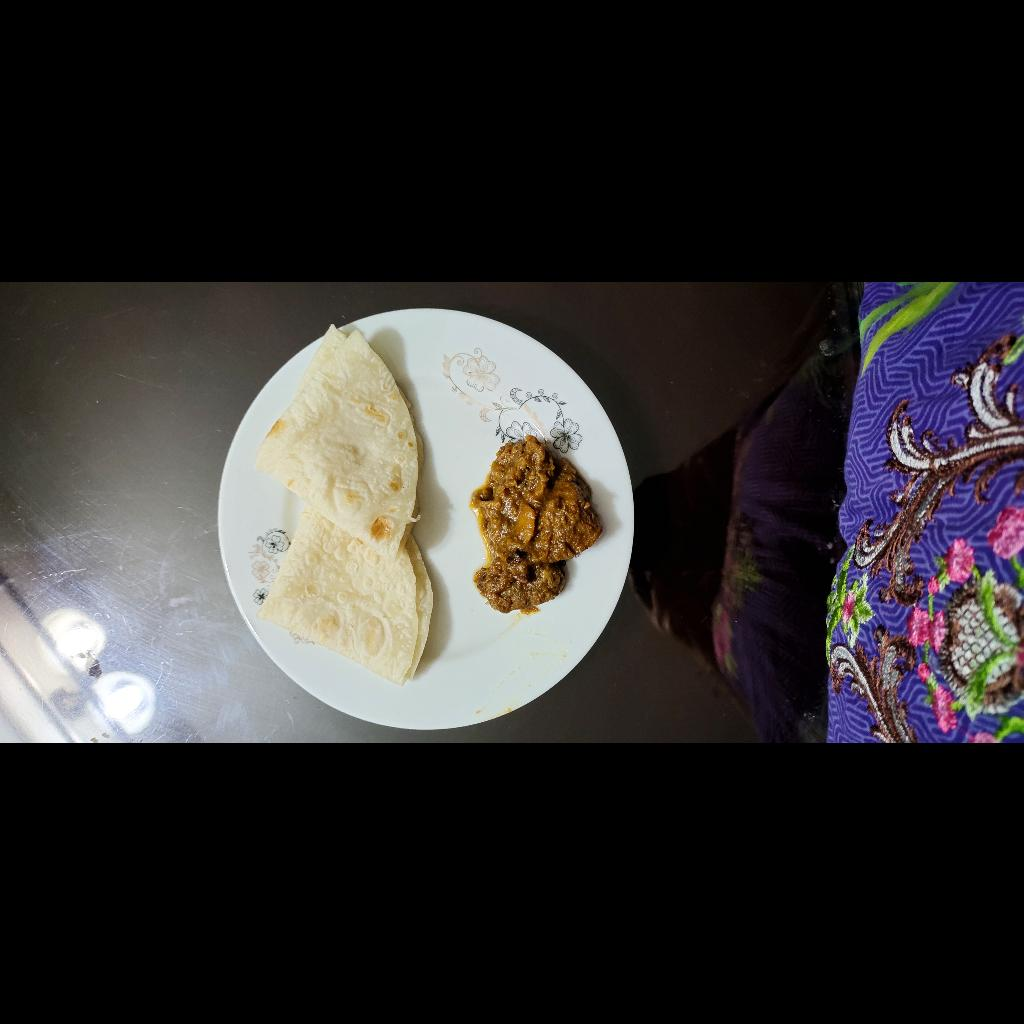chicken: (129, 746, 309, 882)
ruti: (58, 526, 422, 716)
